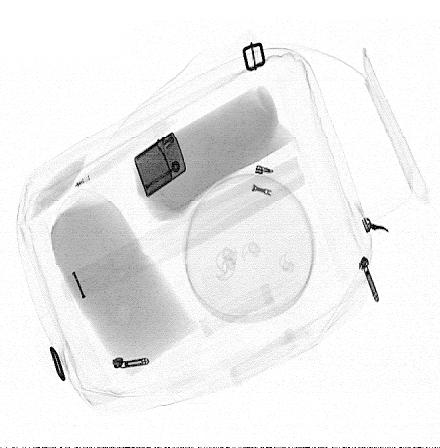Lighter: (135, 131, 187, 198)
